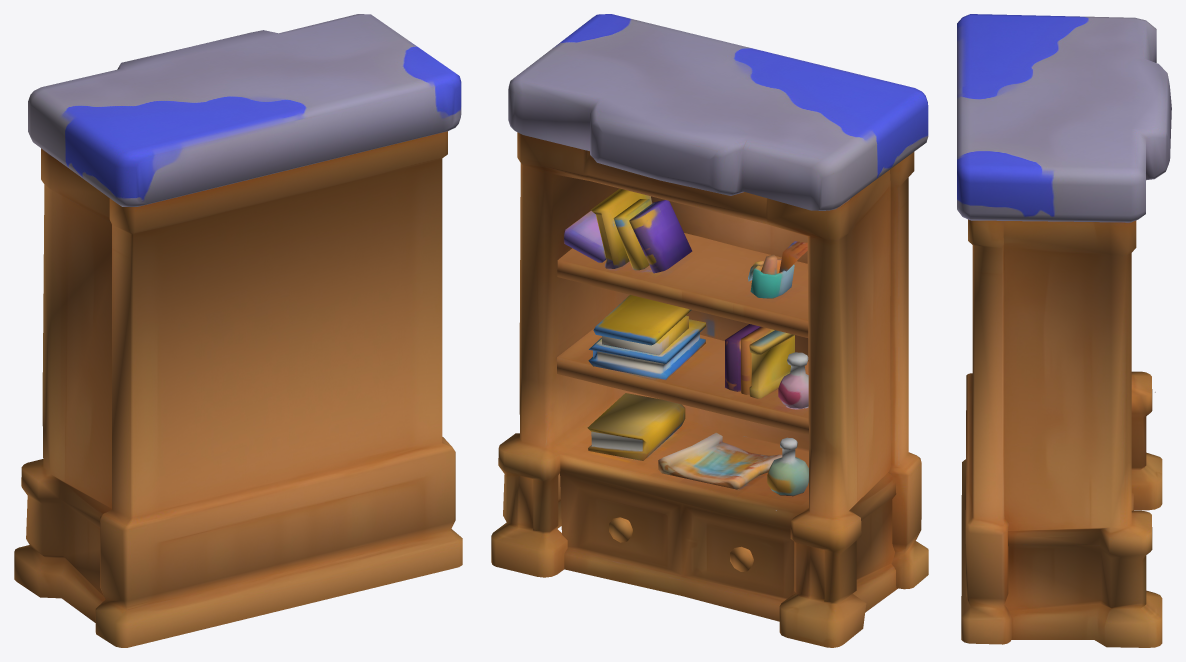
Rendered from academy-bookcase.glb.
3 views of the same model, side by side, from view 1: azimuth 30°, elevation 25°; view 2: azimuth 150°, elevation 25°; view 3: azimuth 270°, elevation 25° (orthographic). The views are drawn at different scales.
Visible parts, largest first — view 1: tripo_node_17ffbf67-3c43-4c62-b9ea-1f5ee91d7e44; view 2: tripo_node_17ffbf67-3c43-4c62-b9ea-1f5ee91d7e44; view 3: tripo_node_17ffbf67-3c43-4c62-b9ea-1f5ee91d7e44.
Part boxes in pixels (bbox=[...]): tripo_node_17ffbf67-3c43-4c62-b9ea-1f5ee91d7e44: bbox=[14, 14, 462, 647]; tripo_node_17ffbf67-3c43-4c62-b9ea-1f5ee91d7e44: bbox=[491, 14, 928, 647]; tripo_node_17ffbf67-3c43-4c62-b9ea-1f5ee91d7e44: bbox=[957, 14, 1171, 647].
Bounding box in the file's own units: 2.29 × 3 × 1.23.
1 material, 1 textured.
